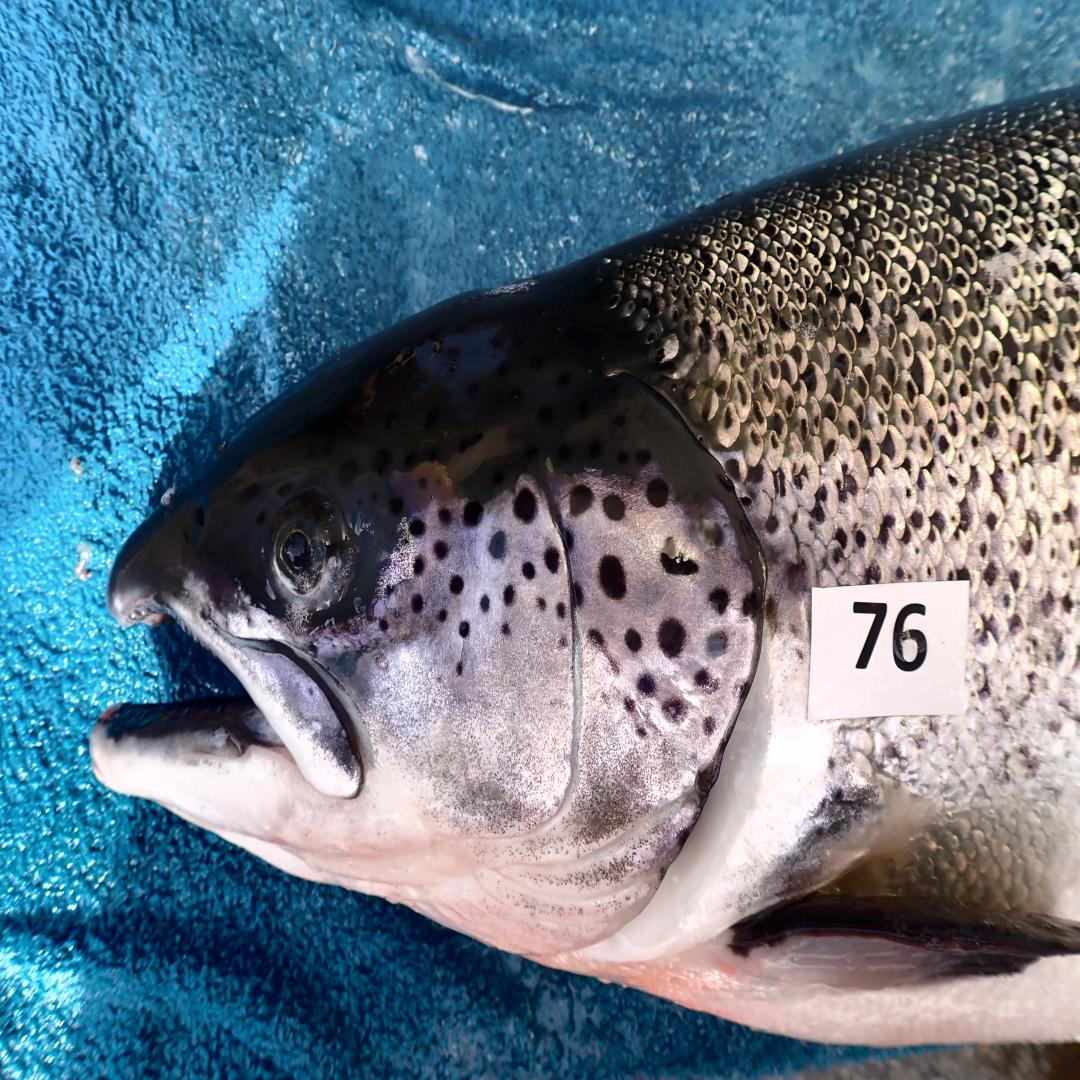spot: (587, 628, 620, 674), (661, 537, 700, 575), (599, 554, 626, 600), (658, 619, 686, 658), (513, 489, 536, 523), (569, 484, 593, 515), (699, 519, 724, 548), (645, 478, 669, 508), (694, 669, 721, 694), (662, 698, 686, 725), (706, 630, 728, 658), (603, 494, 624, 520), (489, 532, 508, 560), (709, 588, 730, 613), (464, 501, 483, 526), (637, 673, 656, 698), (624, 627, 641, 652), (408, 518, 428, 538), (562, 526, 576, 554), (544, 548, 559, 574), (741, 593, 756, 617), (449, 574, 464, 595), (574, 583, 585, 608), (435, 539, 448, 560), (702, 716, 715, 737), (411, 593, 424, 613), (523, 562, 536, 580), (623, 695, 636, 713), (504, 585, 515, 605), (414, 556, 424, 576), (439, 508, 451, 523), (459, 622, 470, 638), (480, 593, 490, 610), (437, 609, 448, 623), (557, 602, 566, 619), (536, 598, 546, 613), (501, 624, 512, 637), (379, 619, 389, 633), (636, 728, 647, 739), (456, 661, 464, 676), (558, 636, 568, 648), (386, 586, 393, 599)
